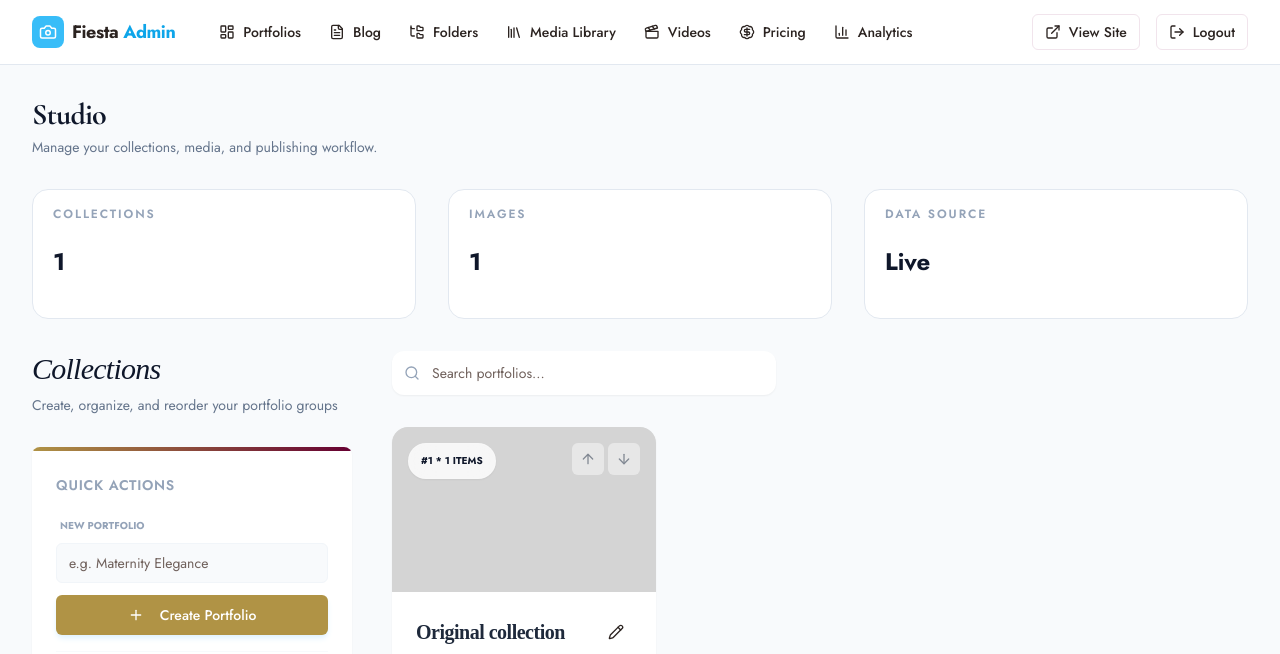
admin portfolio names › saves a trimmed title without changing images or the URL
The image size is (1280, 654).
Click the button named "Rename Original collection" at (616, 632), box [600,616,632,648]
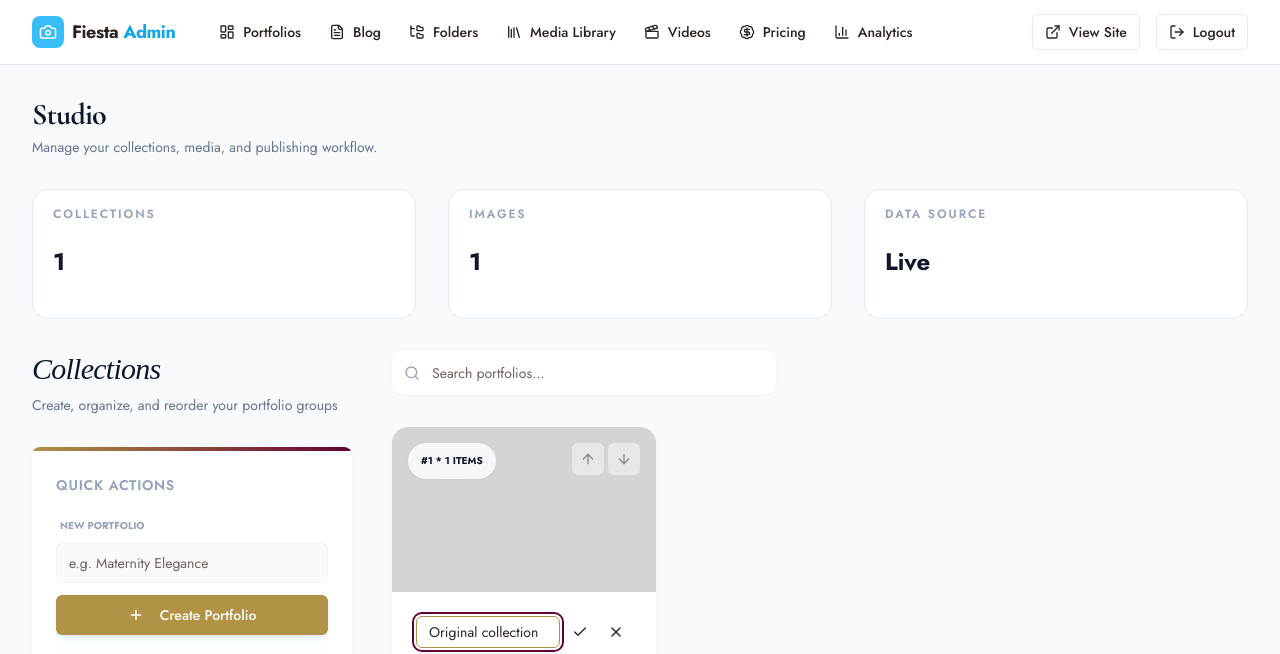
Expected: the field named "Portfolio name" holds "Original collection"
Replace the text in the field named "Portfolio name" with "  New collection  " at (488, 632), box [416,616,560,648]
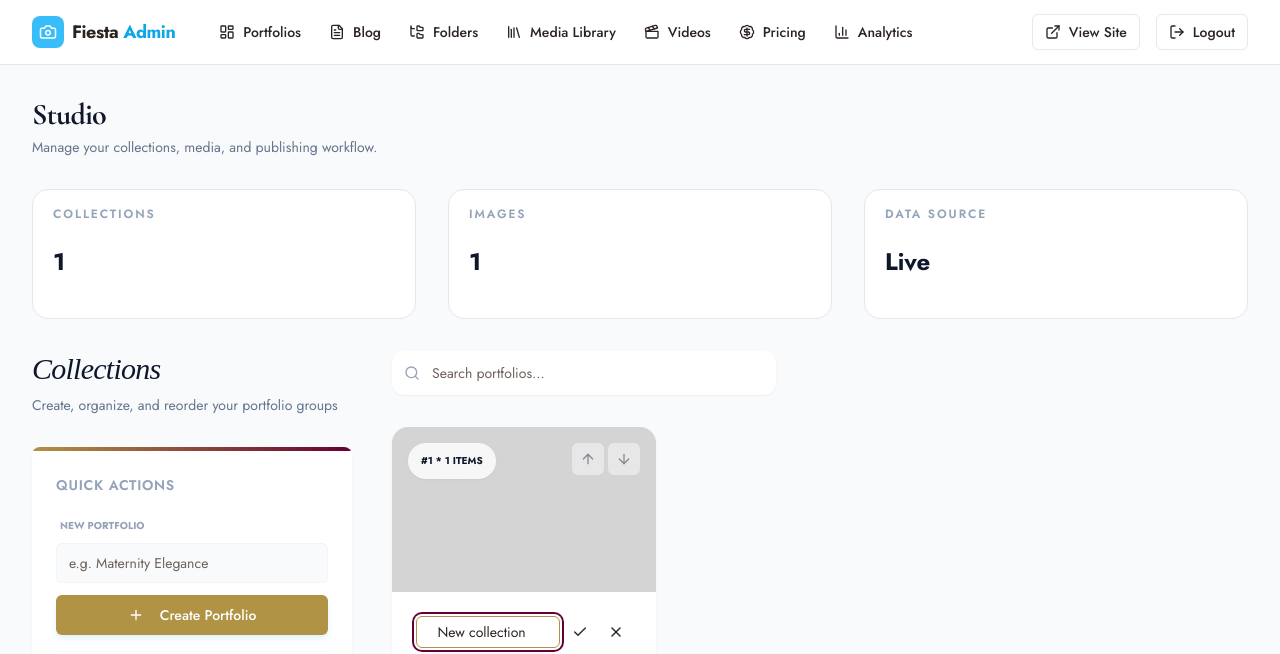
Click the button named "Save portfolio name" at (580, 632), box [564,616,596,648]
(page scrolled)
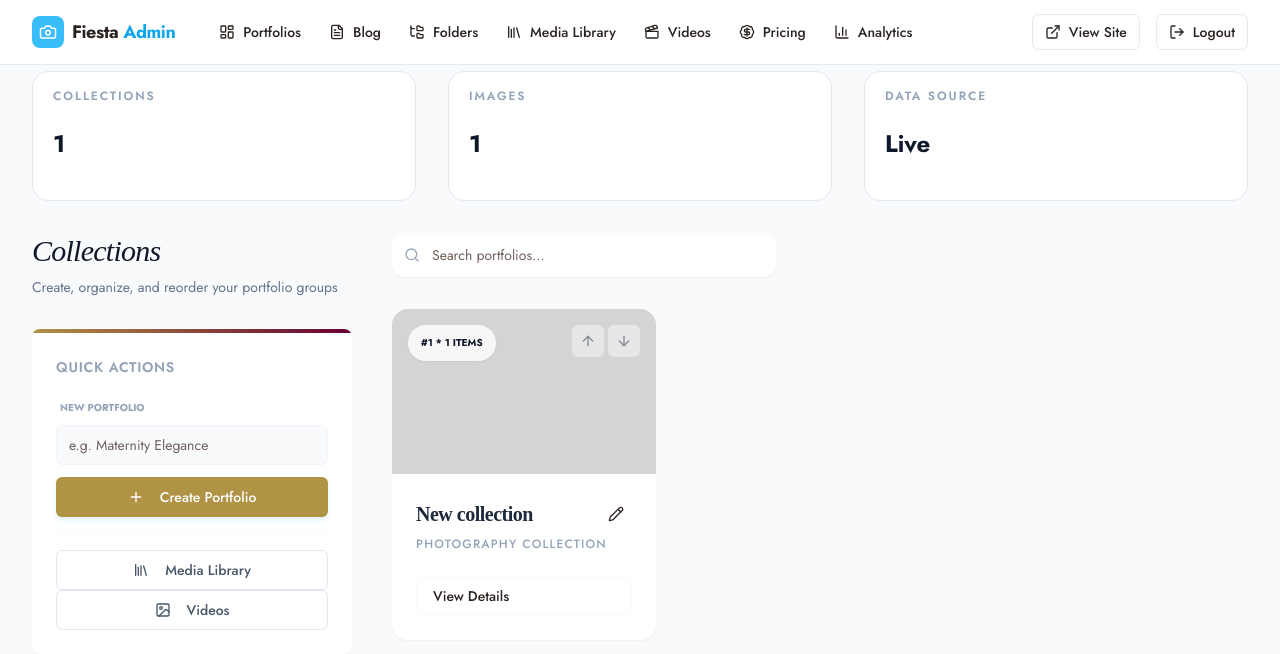
Expected: the button named "Rename New collection" is shown, [600,498,632,530]
